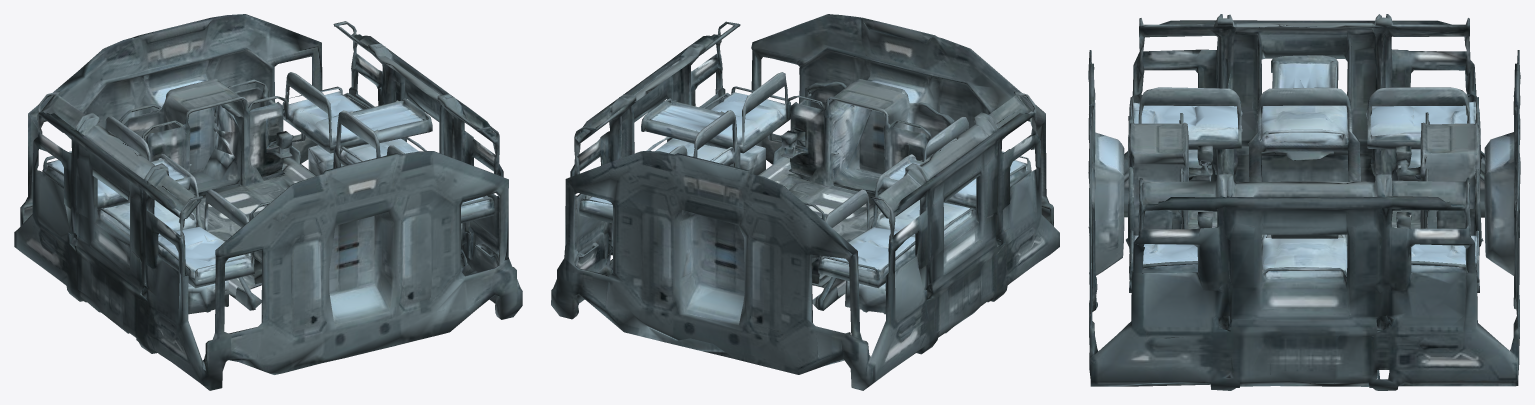
Rendered from station_crew_quarters.repacked.glb.
The picture shows the model from 3 angles, left to right: view 1: azimuth 30°, elevation 25°; view 2: azimuth 150°, elevation 25°; view 3: azimuth 270°, elevation 25°; orthographic projection. The views are drawn at different scales.
Visible parts, largest first — view 1: Mesh1.0; view 2: Mesh1.0; view 3: Mesh1.0.
Boxes of the visible parts, x1,y1,x2,y2 form: Mesh1.0: (14,14,522,390); Mesh1.0: (551,14,1059,390); Mesh1.0: (1088,14,1520,390).
Size of the model in its own units: 1.91 by 1.09 by 1.94.
Materials: 1 (1 with a texture image).
